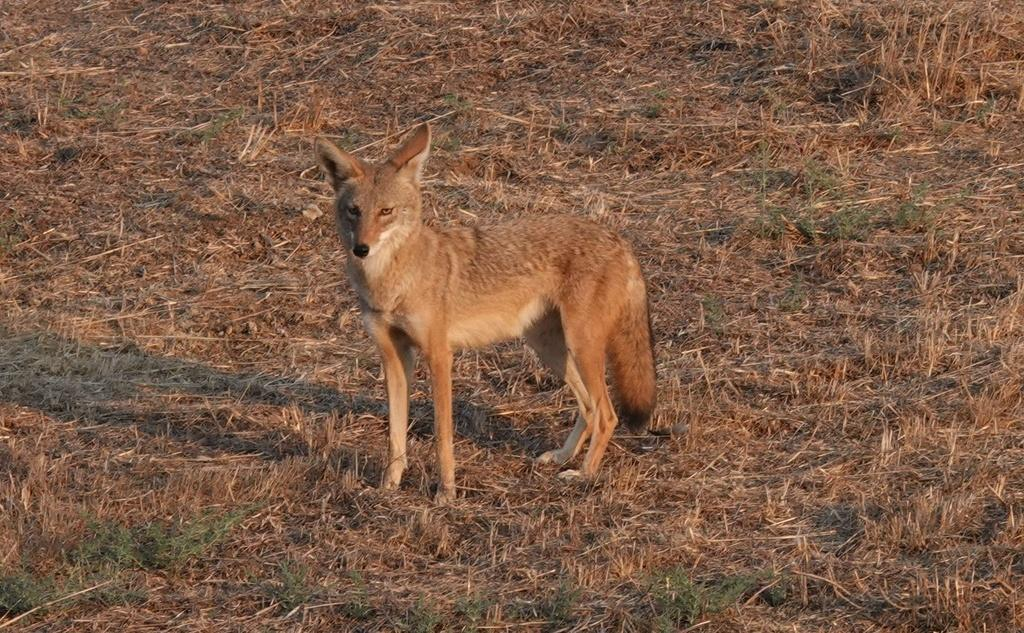Coyote: (311, 121, 661, 506)
